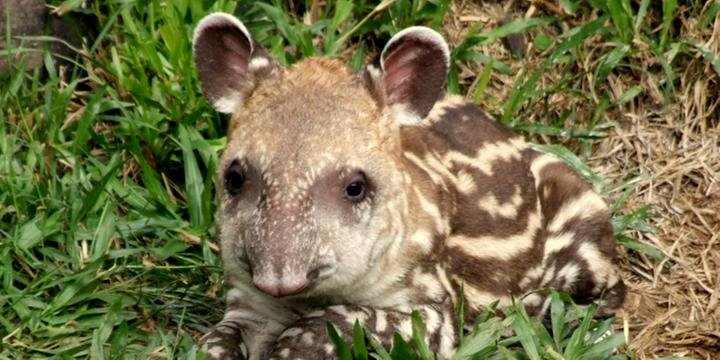Anta: (181, 9, 633, 354)
